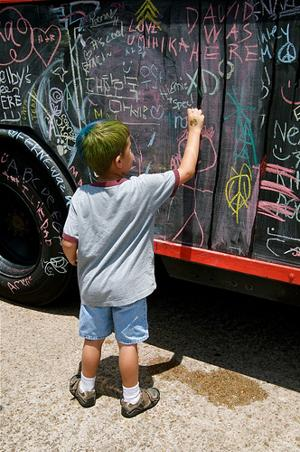person: (62, 107, 205, 417)
